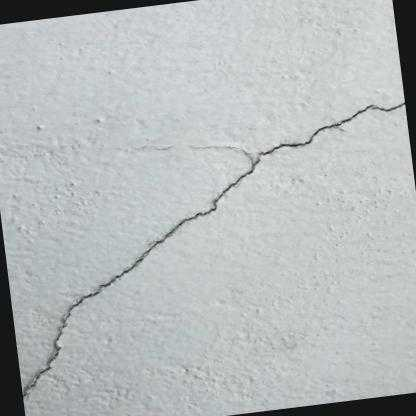crack: (21, 97, 405, 413)
